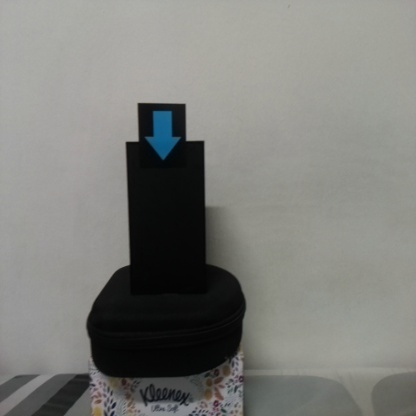id_2: (138, 104, 187, 172)
